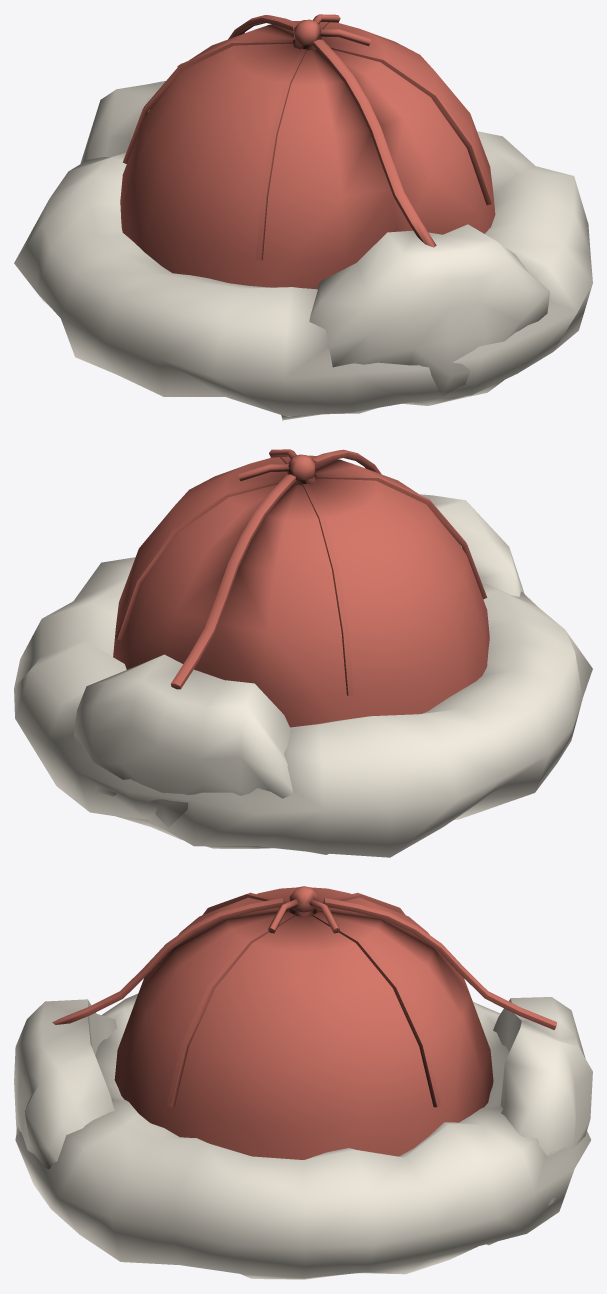
Rendered from wear_trapper.glb.
3 renders of one model, top to bottom at view 1: azimuth 30°, elevation 25°; view 2: azimuth 150°, elevation 25°; view 3: azimuth 270°, elevation 25°, orthographic.
Parts seen in each view (by area): view 1: PART; view 2: PART; view 3: PART.
Boxes of the visible parts, x1,y1,x2,y2 form: PART: (14, 14, 592, 420); PART: (14, 449, 592, 857); PART: (14, 886, 592, 1279).
Bounding box in the file's own units: 0.2848 × 0.1683 × 0.2856.
